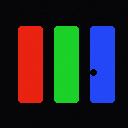0 point: (90, 69, 96, 75)
